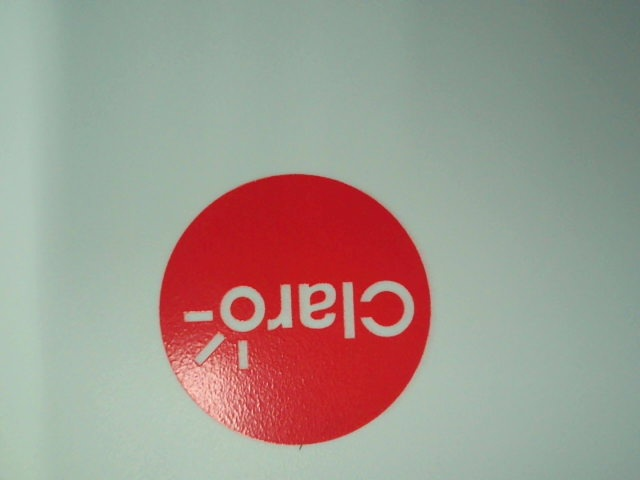BC_ClaorRed: (144, 171, 437, 449)
